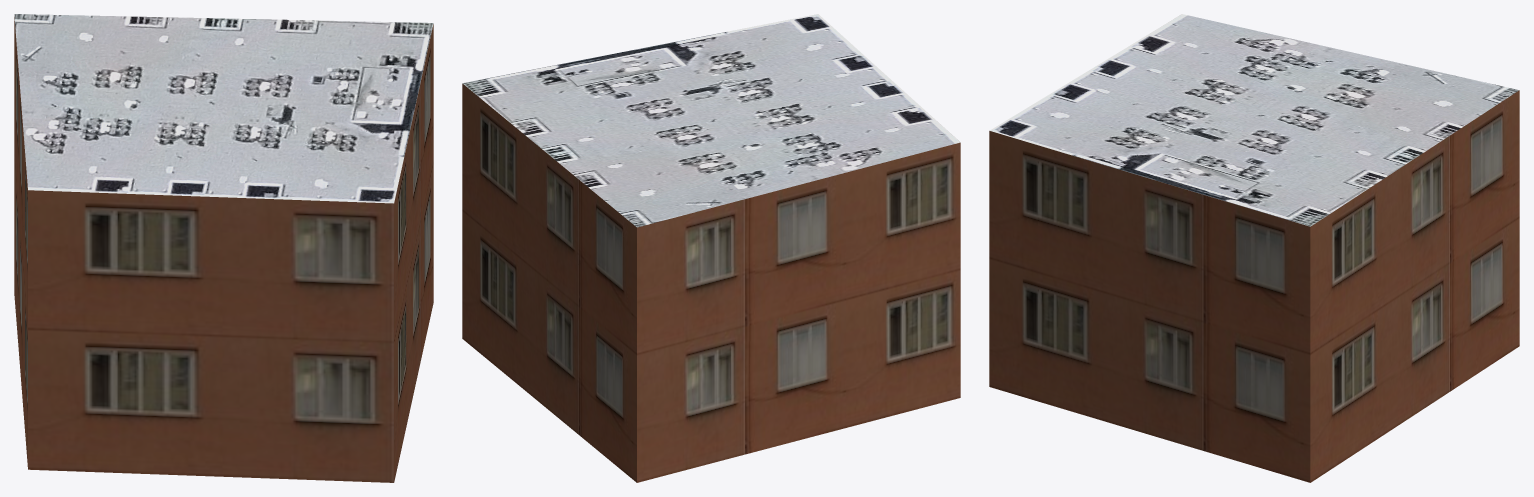
File: ResTex__4560.fbx
The picture shows the model from 3 angles, left to right: view 1: azimuth 30°, elevation 25°; view 2: azimuth 150°, elevation 25°; view 3: azimuth 270°, elevation 25°; orthographic projection. The views are drawn at different scales.
Visible parts, largest first — view 1: CityEngineMaterial_20_m, CityEngineMaterial_m; view 2: CityEngineMaterial_20_m, CityEngineMaterial_m; view 3: CityEngineMaterial_20_m, CityEngineMaterial_m.
Boxes of the visible parts, <box> form: CityEngineMaterial_20_m: <box>14,17,433,482</box>; CityEngineMaterial_m: <box>14,14,433,203</box>; CityEngineMaterial_20_m: <box>462,83,960,482</box>; CityEngineMaterial_m: <box>462,14,960,227</box>; CityEngineMaterial_20_m: <box>989,90,1519,482</box>; CityEngineMaterial_m: <box>990,14,1518,226</box>.
Bounding box in the file's own units: 10.69 × 6 × 11.25.
2 materials, 2 textured.
